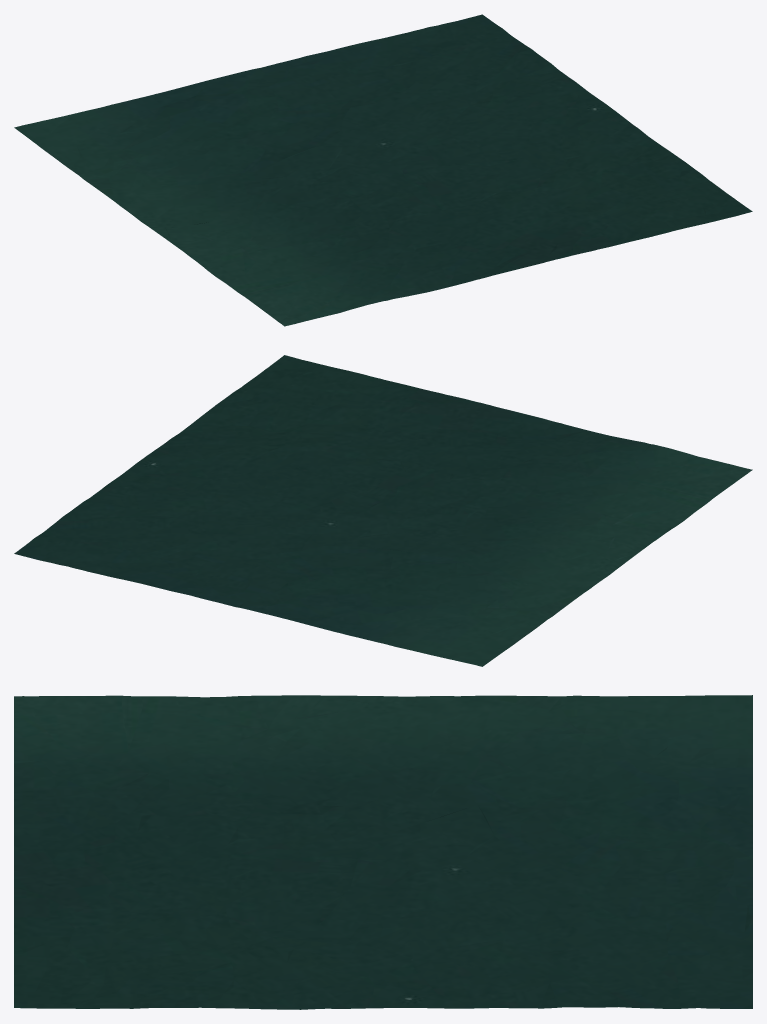
3 views of the same model, one above another, from view 1: azimuth 30°, elevation 25°; view 2: azimuth 150°, elevation 25°; view 3: azimuth 270°, elevation 25° (orthographic). The views are drawn at different scales.
Size of the model in its own units: 209 by 1.11 by 209.
2 materials, 2 textured.
